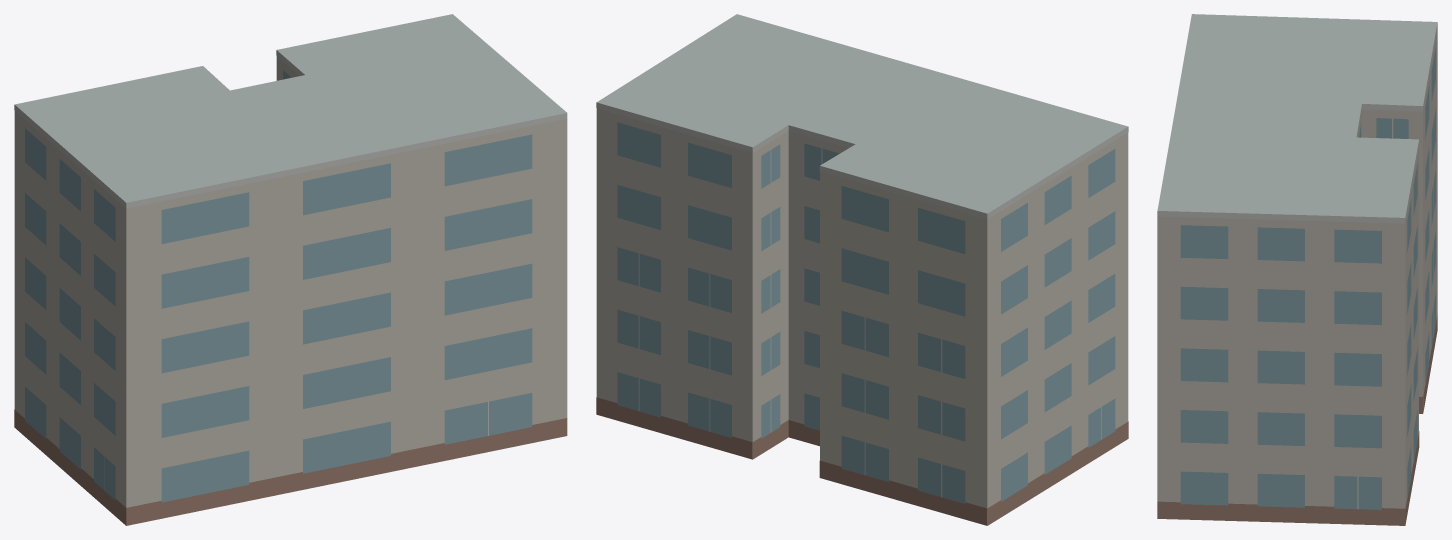
Rendered from survey-upis-32695229.glb.
3 views of the same model, side by side, from view 1: azimuth 30°, elevation 25°; view 2: azimuth 150°, elevation 25°; view 3: azimuth 270°, elevation 25° (orthographic). The views are drawn at different scales.
Parts seen in each view (by area): view 1: survey-upis-32695229.tmp; view 2: survey-upis-32695229.tmp; view 3: survey-upis-32695229.tmp.
Boxes of the visible parts, box(x1,y1,x2,y2) form: survey-upis-32695229.tmp: box(14, 14, 567, 525); survey-upis-32695229.tmp: box(596, 14, 1128, 525); survey-upis-32695229.tmp: box(1157, 14, 1437, 525).
Size of the model in its own units: 19.18 by 13.5 by 11.14.
